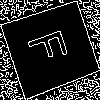F: (25, 23, 78, 67)
